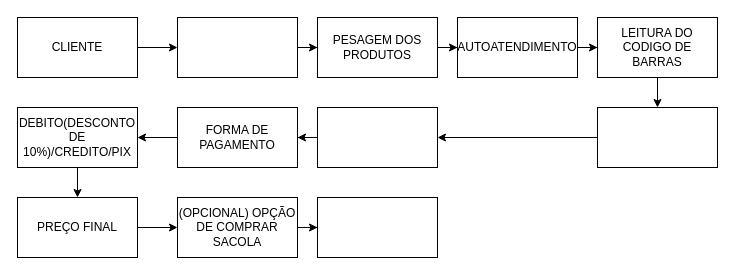
Image size: 735x275. Some labels were removed from this diagram. Here are the shapes that lost their labels. From the top down, the centre of each, then its label:
the point at 237,47: ESCOLHA DOS PRODUTOS
the point at 377,137: VALOR TOTAL DO(S) PRODUTO(S) COM BASE NO PESO
the point at 657,137: DIGITALIZAÇÃO DO PRODUTO BASEADO NO PESO E TIPO DE DOCE
the point at 377,227: FINALIZAÇÃO DA COMPRA
